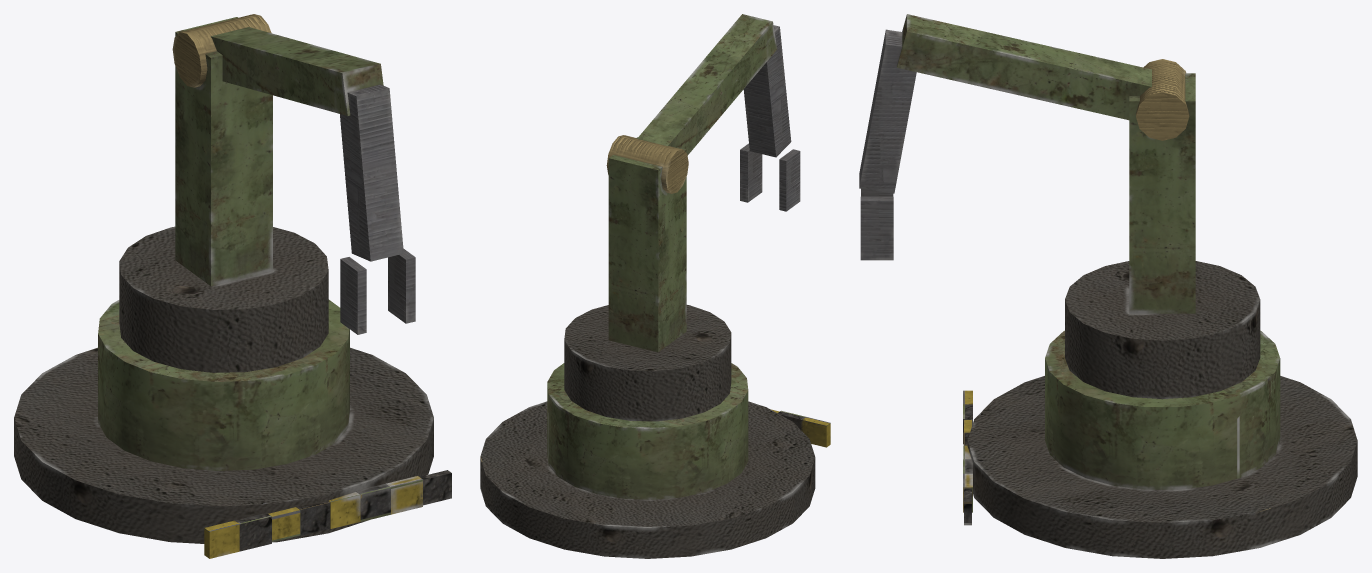
The model's file is feMechArm_HD.fbx.
3 views of the same model, side by side, from view 1: azimuth 30°, elevation 25°; view 2: azimuth 150°, elevation 25°; view 3: azimuth 270°, elevation 25° (orthographic). The views are drawn at different scales.
Visible parts, largest first — view 1: feMechArm_Base, FeArmYaw; view 2: feMechArm_Base, FeArmYaw; view 3: feMechArm_Base, FeArmYaw.
Part boxes in pixels (x1=…): feMechArm_Base: x1=14, y1=299, x2=451, y2=558; FeArmYaw: x1=119, y1=14, x2=415, y2=372; feMechArm_Base: x1=480, y1=363, x2=830, y2=558; FeArmYaw: x1=564, y1=14, x2=800, y2=421; feMechArm_Base: x1=963, y1=330, x2=1357, y2=558; FeArmYaw: x1=859, y1=14, x2=1260, y2=399.
Bounding box in the file's own units: 0.6012 × 0.7719 × 0.768.
Materials: 1 (1 with a texture image).
